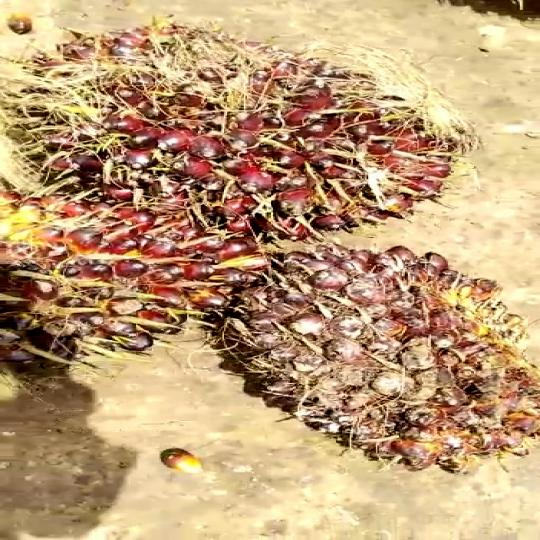kurang masak: (0, 16, 506, 268), (182, 251, 540, 481), (0, 186, 252, 424)
